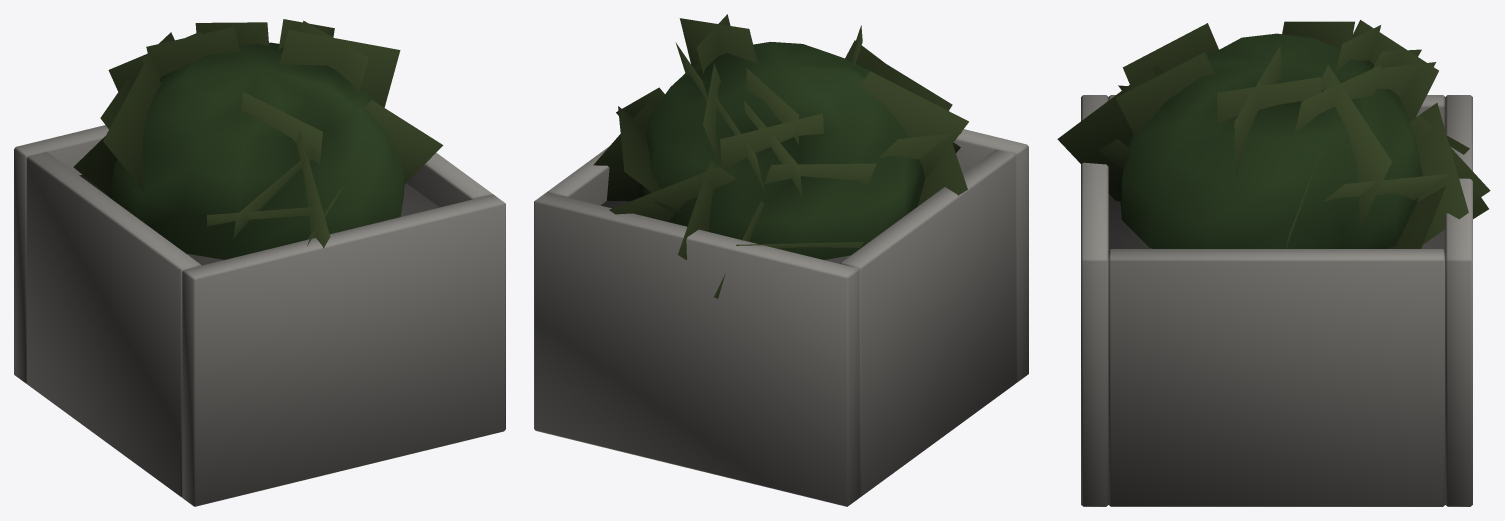
The model's file is veg.planter.mo.glb.
The picture shows the model from 3 angles, left to right: view 1: azimuth 30°, elevation 25°; view 2: azimuth 150°, elevation 25°; view 3: azimuth 270°, elevation 25°; orthographic projection. The views are drawn at different scales.
Visible parts, largest first — view 1: LOD0; view 2: LOD0; view 3: LOD0.
Part boxes in pixels (box(x1,y1,x2,y2)): LOD0: box(14, 19, 505, 506); LOD0: box(534, 14, 1028, 506); LOD0: box(1057, 20, 1490, 506).
Size of what is drawn, in the model's own units: 1.03 by 1.12 by 1.11.
